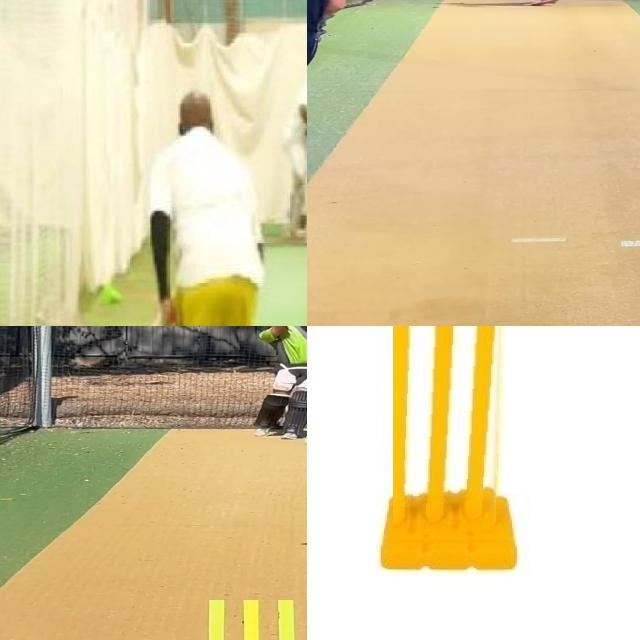Cricket ball: (299, 434, 307, 451)
Stumps: (393, 326, 509, 539), (187, 600, 307, 640)
